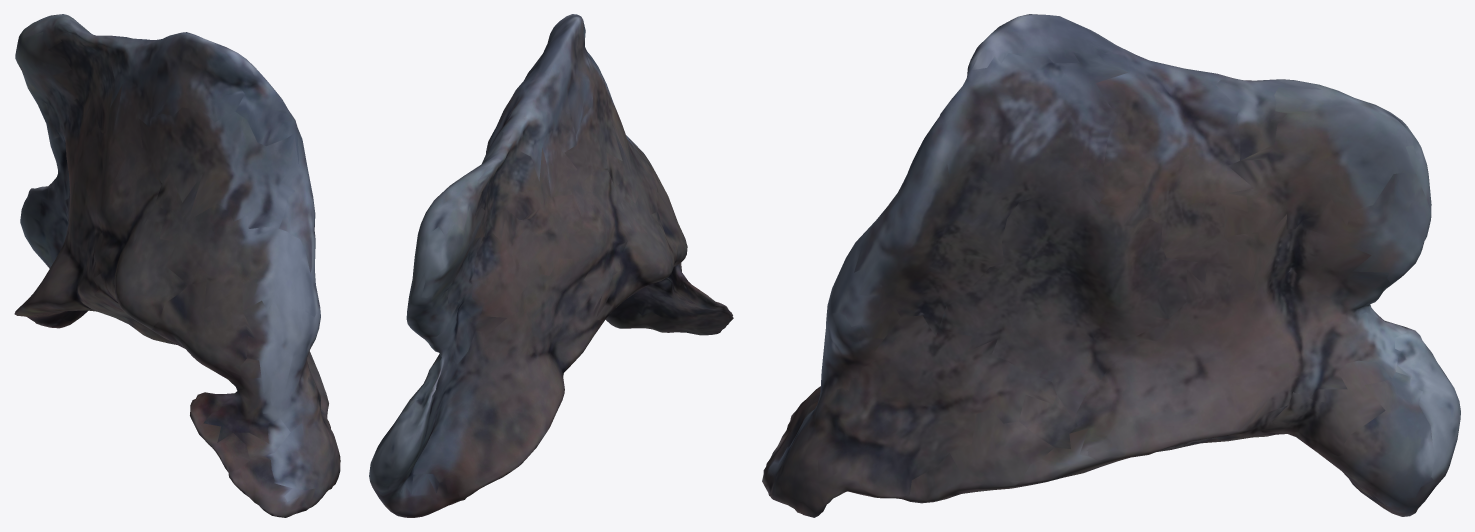
Rendered from Alfred_Wingshield.glb.
3 views of the same model, side by side, from view 1: azimuth 30°, elevation 25°; view 2: azimuth 150°, elevation 25°; view 3: azimuth 270°, elevation 25° (orthographic). The views are drawn at different scales.
Visible parts, largest first — view 1: Alfred_Wingshield; view 2: Alfred_Wingshield; view 3: Alfred_Wingshield.
Boxes of the visible parts, x1,y1,x2,y2 form: Alfred_Wingshield: (14,14,340,517); Alfred_Wingshield: (369,14,733,517); Alfred_Wingshield: (762,14,1460,517).
Bounding box in the file's own units: 0.4598 × 0.929 × 1.2.
1 material, 1 textured.
